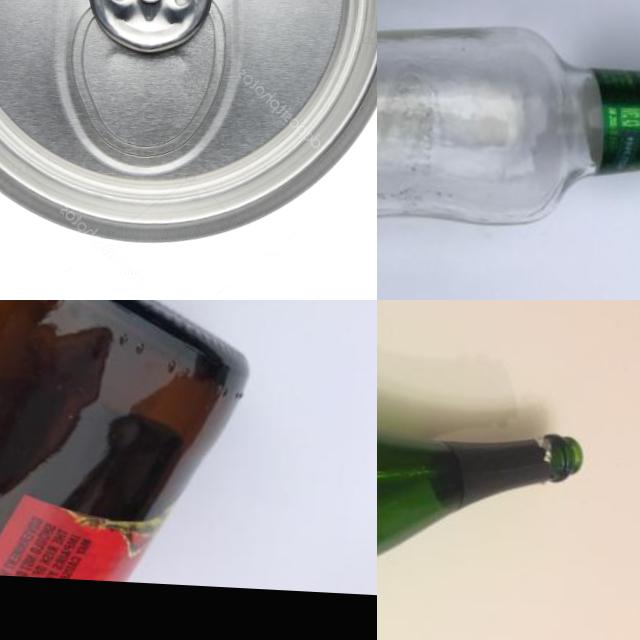aba de lata: (80, 0, 224, 55)
garrafa de vidro: (0, 300, 254, 587), (377, 6, 640, 267), (377, 407, 585, 636)
lata: (0, 0, 377, 259)
